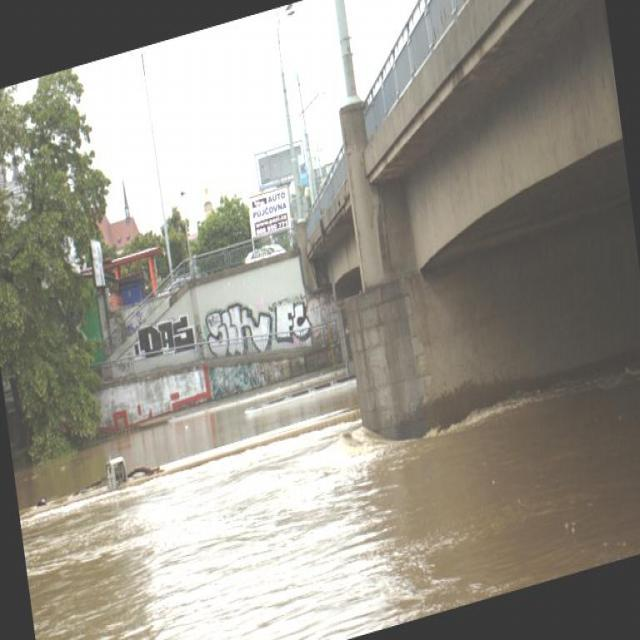flood: (11, 269, 639, 639)
